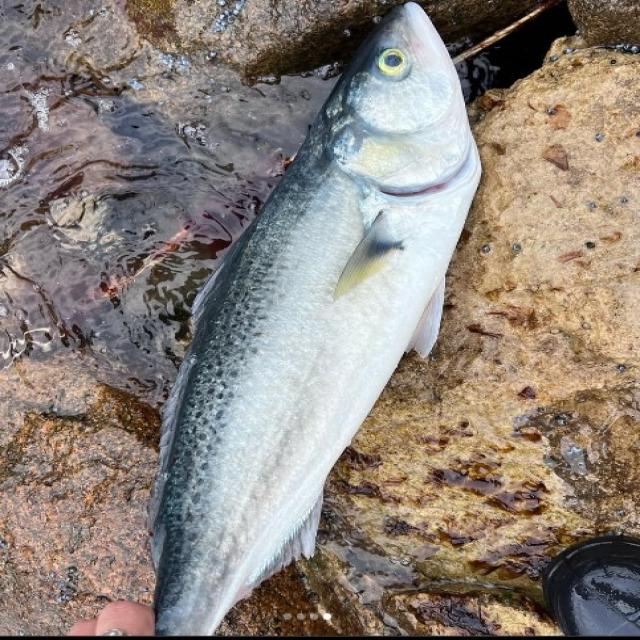Australian Salmon: (131, 0, 501, 640)
